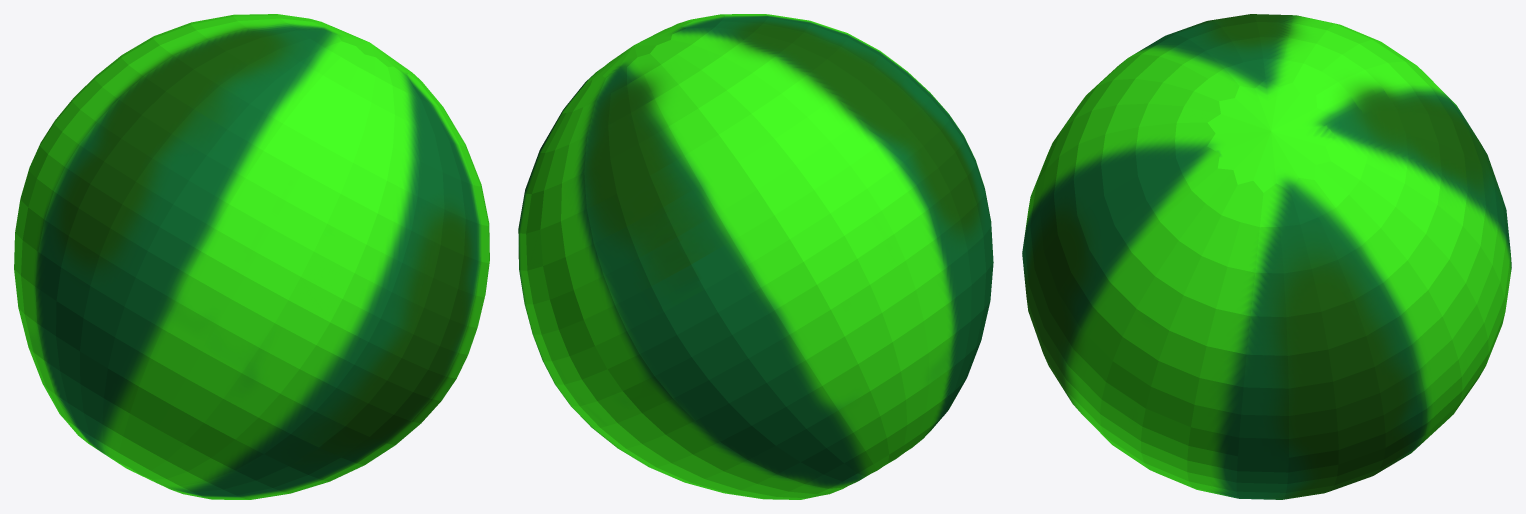
Rendered from watermelon_ball.obj.
3 renders of one model, left to right at view 1: azimuth 30°, elevation 25°; view 2: azimuth 150°, elevation 25°; view 3: azimuth 270°, elevation 25°, orthographic. The views are drawn at different scales.
Visible parts, largest first — view 1: Object_4.002; view 2: Object_4.002; view 3: Object_4.002.
Part boxes in pixels (x1,y1,x2,y2): Object_4.002: [14, 14, 489, 499]; Object_4.002: [518, 14, 993, 499]; Object_4.002: [1022, 14, 1511, 499].
Bounding box in the file's own units: 0.0287 × 0.0292 × 0.0289.
